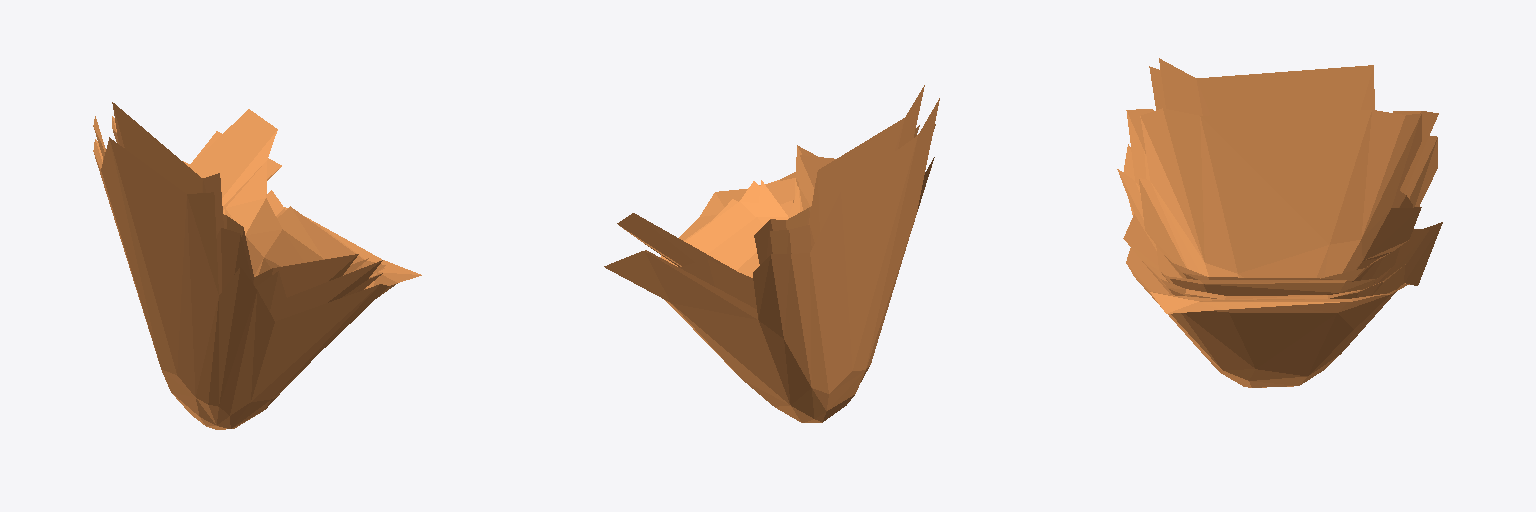
3 views of the same model, side by side, from view 1: azimuth 30°, elevation 25°; view 2: azimuth 150°, elevation 25°; view 3: azimuth 270°, elevation 25° (orthographic).
Parts seen in each view (by area): view 1: Right Leg; view 2: Right Leg; view 3: Right Leg.
Part boxes in pixels (x1,y1,x2,y2): Right Leg: (93, 102, 421, 429); Right Leg: (604, 85, 939, 422); Right Leg: (1117, 58, 1442, 387).
Size of the model in its own units: 1.23 by 1.61 by 1.58.
1 materials, 1 textured.